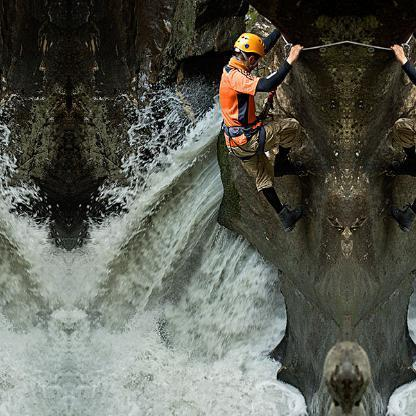Helmet: (226, 28, 270, 74)
